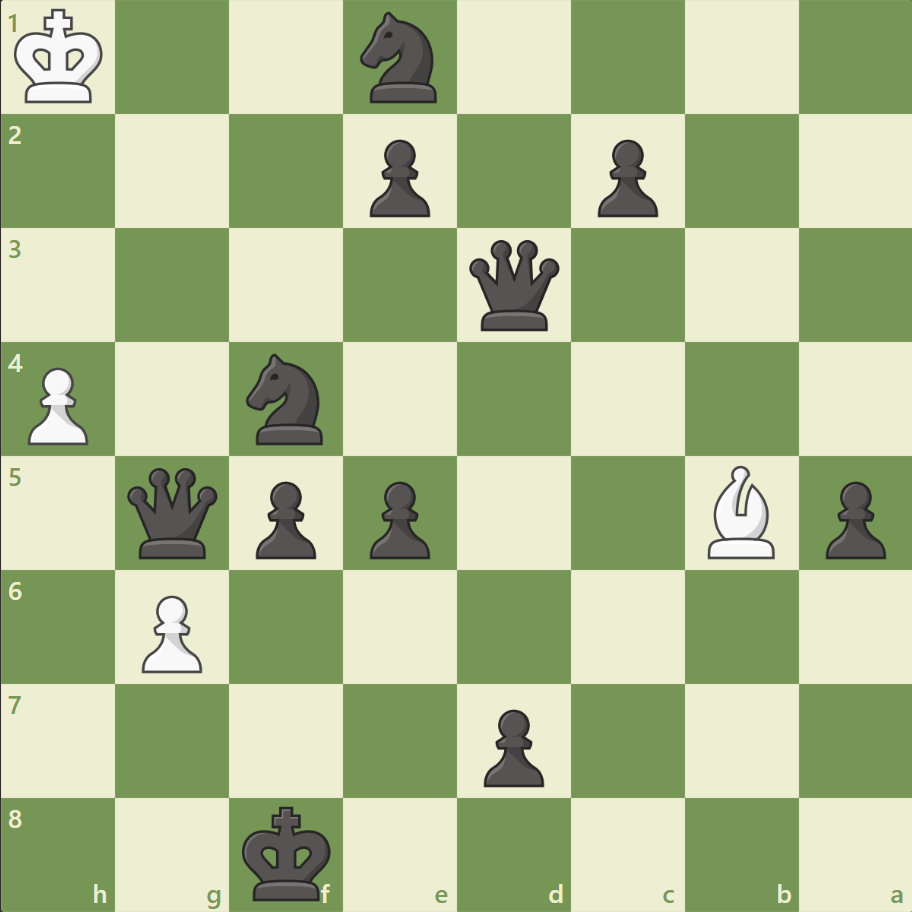B: (698, 460, 782, 563)
K: (11, 4, 111, 112)
P: (133, 586, 208, 677), (20, 359, 95, 450)
k: (238, 798, 338, 906)
n: (351, 7, 449, 110), (238, 348, 335, 450)
p: (474, 700, 549, 791), (247, 473, 322, 564), (815, 473, 889, 564), (361, 473, 435, 564), (588, 132, 662, 223), (361, 132, 435, 223)
q: (124, 463, 223, 562), (464, 236, 563, 335)
